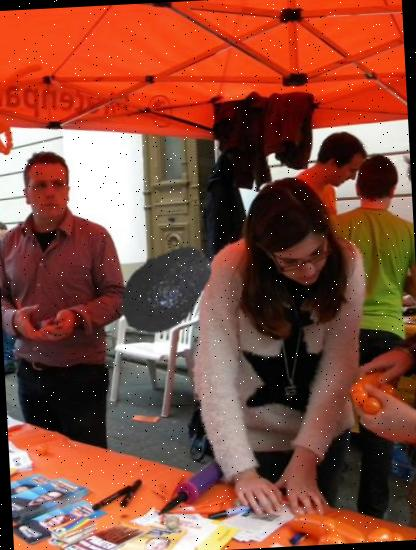Avocado: (112, 232, 221, 342)
